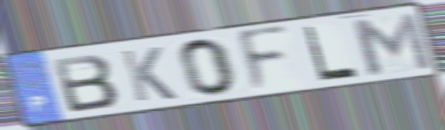0: (176, 37, 241, 99)
B: (49, 52, 121, 114)
F: (235, 22, 292, 97)
K: (118, 45, 180, 104)
L: (301, 24, 360, 83)
M: (347, 10, 436, 77)
